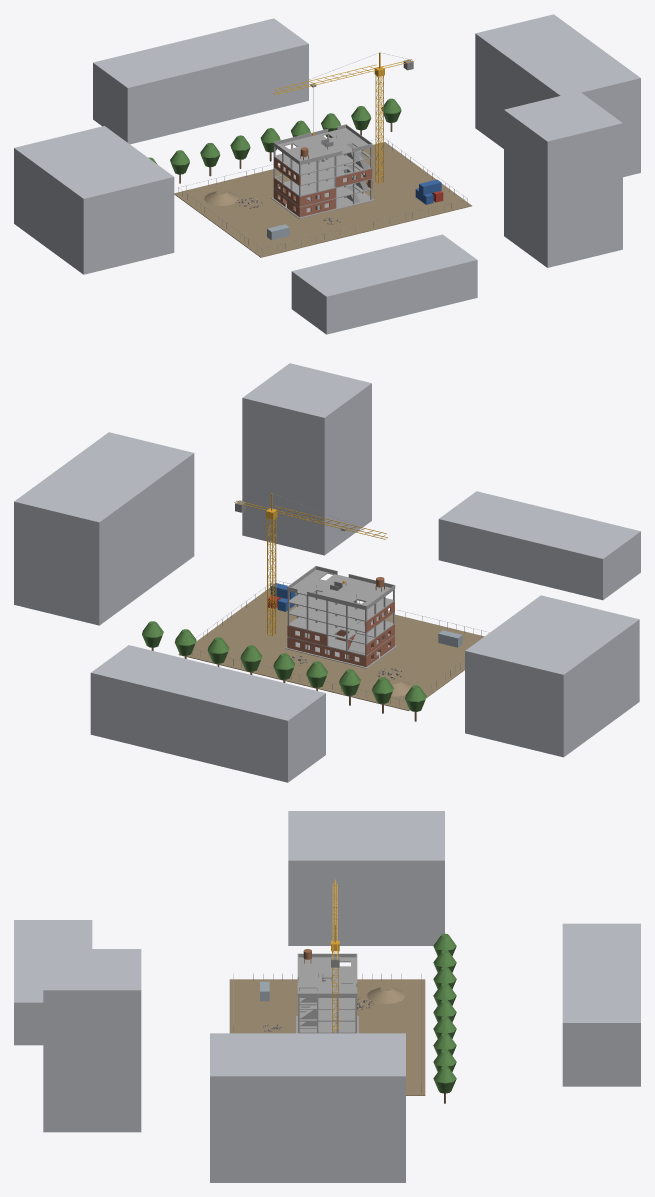
Rendered from bando_a_rooms.glb.
3 views of the same model, one above another, from view 1: azimuth 30°, elevation 25°; view 2: azimuth 150°, elevation 25°; view 3: azimuth 270°, elevation 25° (orthographic). The views are drawn at different scales.
Parts seen in each view (by area): view 1: city_block_002, city_block, city_block_004, city_block_001, city_block_003, site, ground_slab; view 2: city_block_001, city_block_002, city_block, city_block_004, city_block_003, site, floor_4_009; view 3: city_block_001, city_block, city_block_004, city_block_002, site, city_block_003, floor_5_001, dirt_mound.
Boxes of the visible parts, x1,y1,x2,y2 form: city_block_002: (93, 18, 308, 144); city_block: (14, 126, 174, 274); city_block_004: (504, 91, 622, 267); city_block_001: (475, 14, 640, 177); city_block_003: (291, 234, 477, 334); site: (174, 142, 471, 257); ground_slab: (271, 188, 374, 218); city_block_001: (14, 432, 194, 625); city_block_002: (90, 645, 325, 782); city_block: (465, 595, 639, 757); city_block_004: (242, 363, 371, 555); city_block_003: (438, 491, 640, 600); site: (178, 588, 484, 710); floor_4_009: (287, 594, 378, 621); city_block_001: (210, 1033, 405, 1182); city_block: (288, 811, 444, 945); city_block_004: (43, 949, 141, 1132); city_block_002: (562, 923, 640, 1086); site: (229, 979, 425, 1095); city_block_003: (14, 920, 92, 1045); floor_5_001: (299, 957, 317, 988); dirt_mound: (367, 986, 405, 1003).
Size of what is drawn, in the model's own units: 173 by 41.32 by 160.
